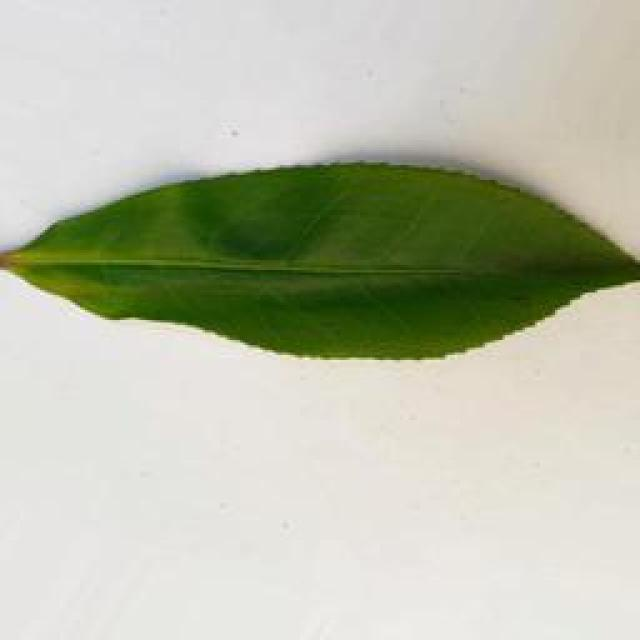Healthy: (0, 147, 640, 375)
